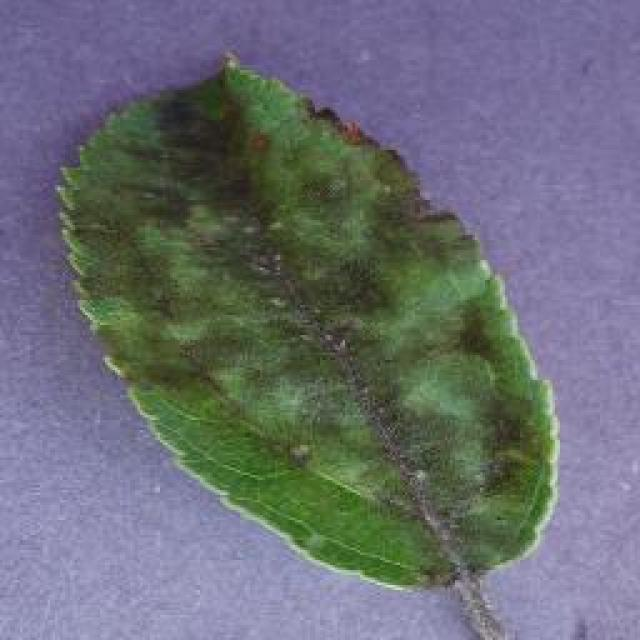apple scab disease: (52, 48, 562, 598)
